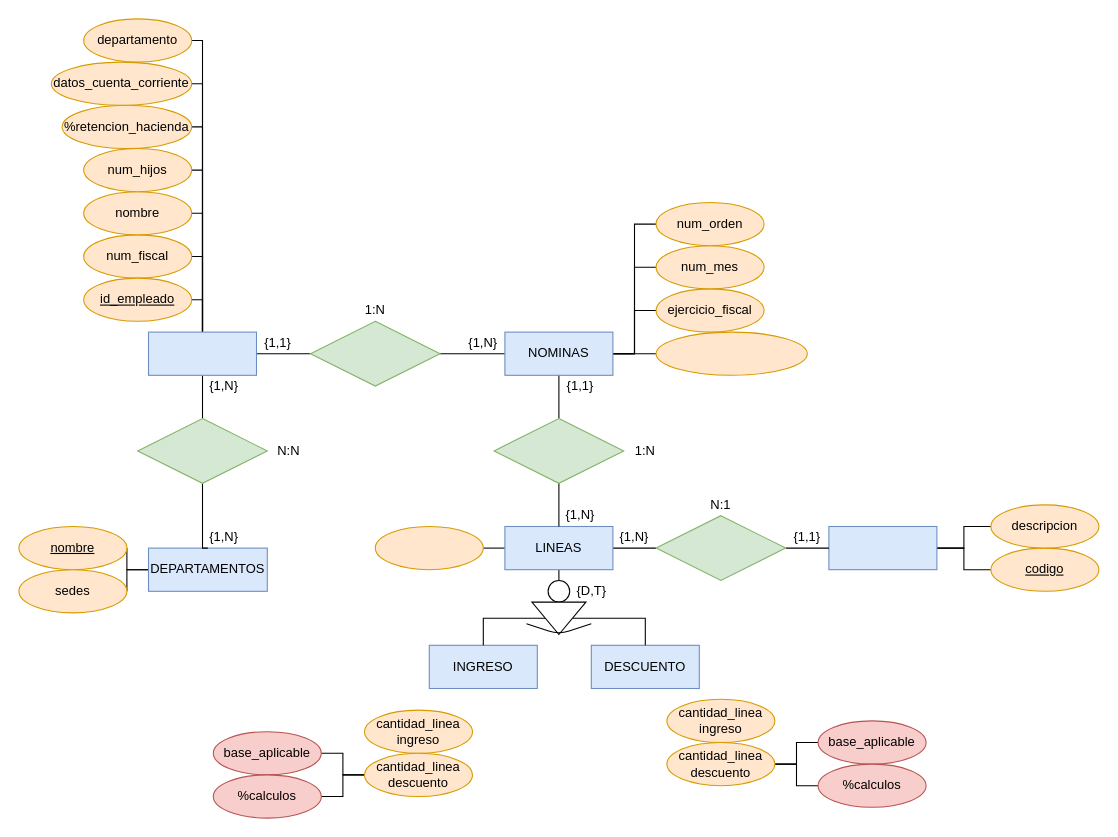
Some shapes in this 1118 by 837 pixel diagram are drawn without their labels. Here are the shapes that lost their labels. From the top down, the centre of each, then its label:
At (201,353): "EMPLEADO".
At (374,353): "ASIGNAN".
At (731,353): "id__nomina_empleado".
At (202,450): "TRABAJA".
At (558,450): "CONSTA_DE".
At (428,547): "num_linea".
At (720,547): "RESPONDEN".
At (882,547): "CONCEPTO RETRIBUTIVO".
